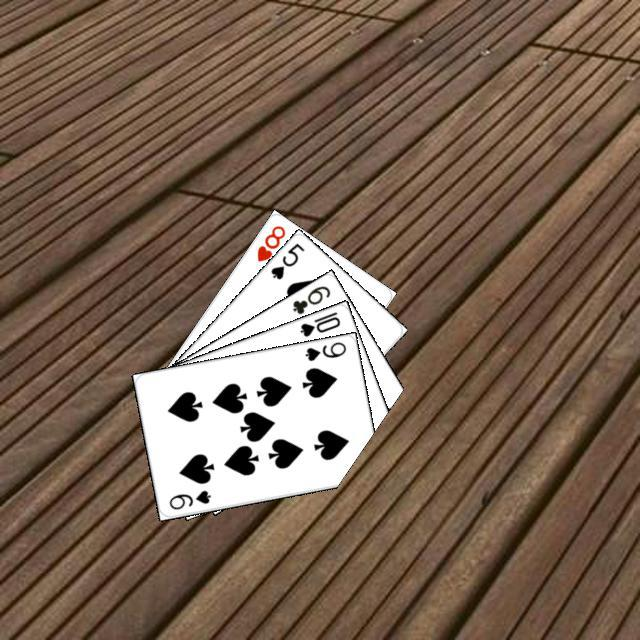10s: (295, 307, 342, 338)
5s: (266, 238, 306, 281)
6c: (288, 281, 332, 316)
8h: (252, 220, 287, 264)
9s: (300, 337, 348, 363), (164, 485, 212, 511)
